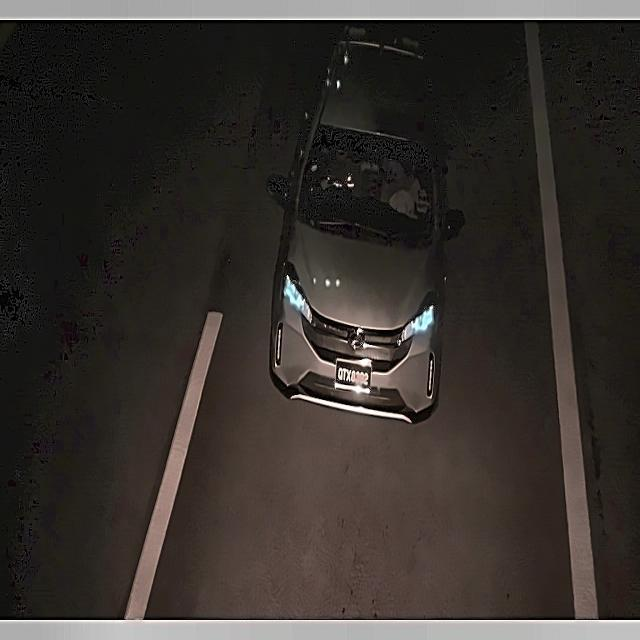car: (334, 356, 376, 393)
